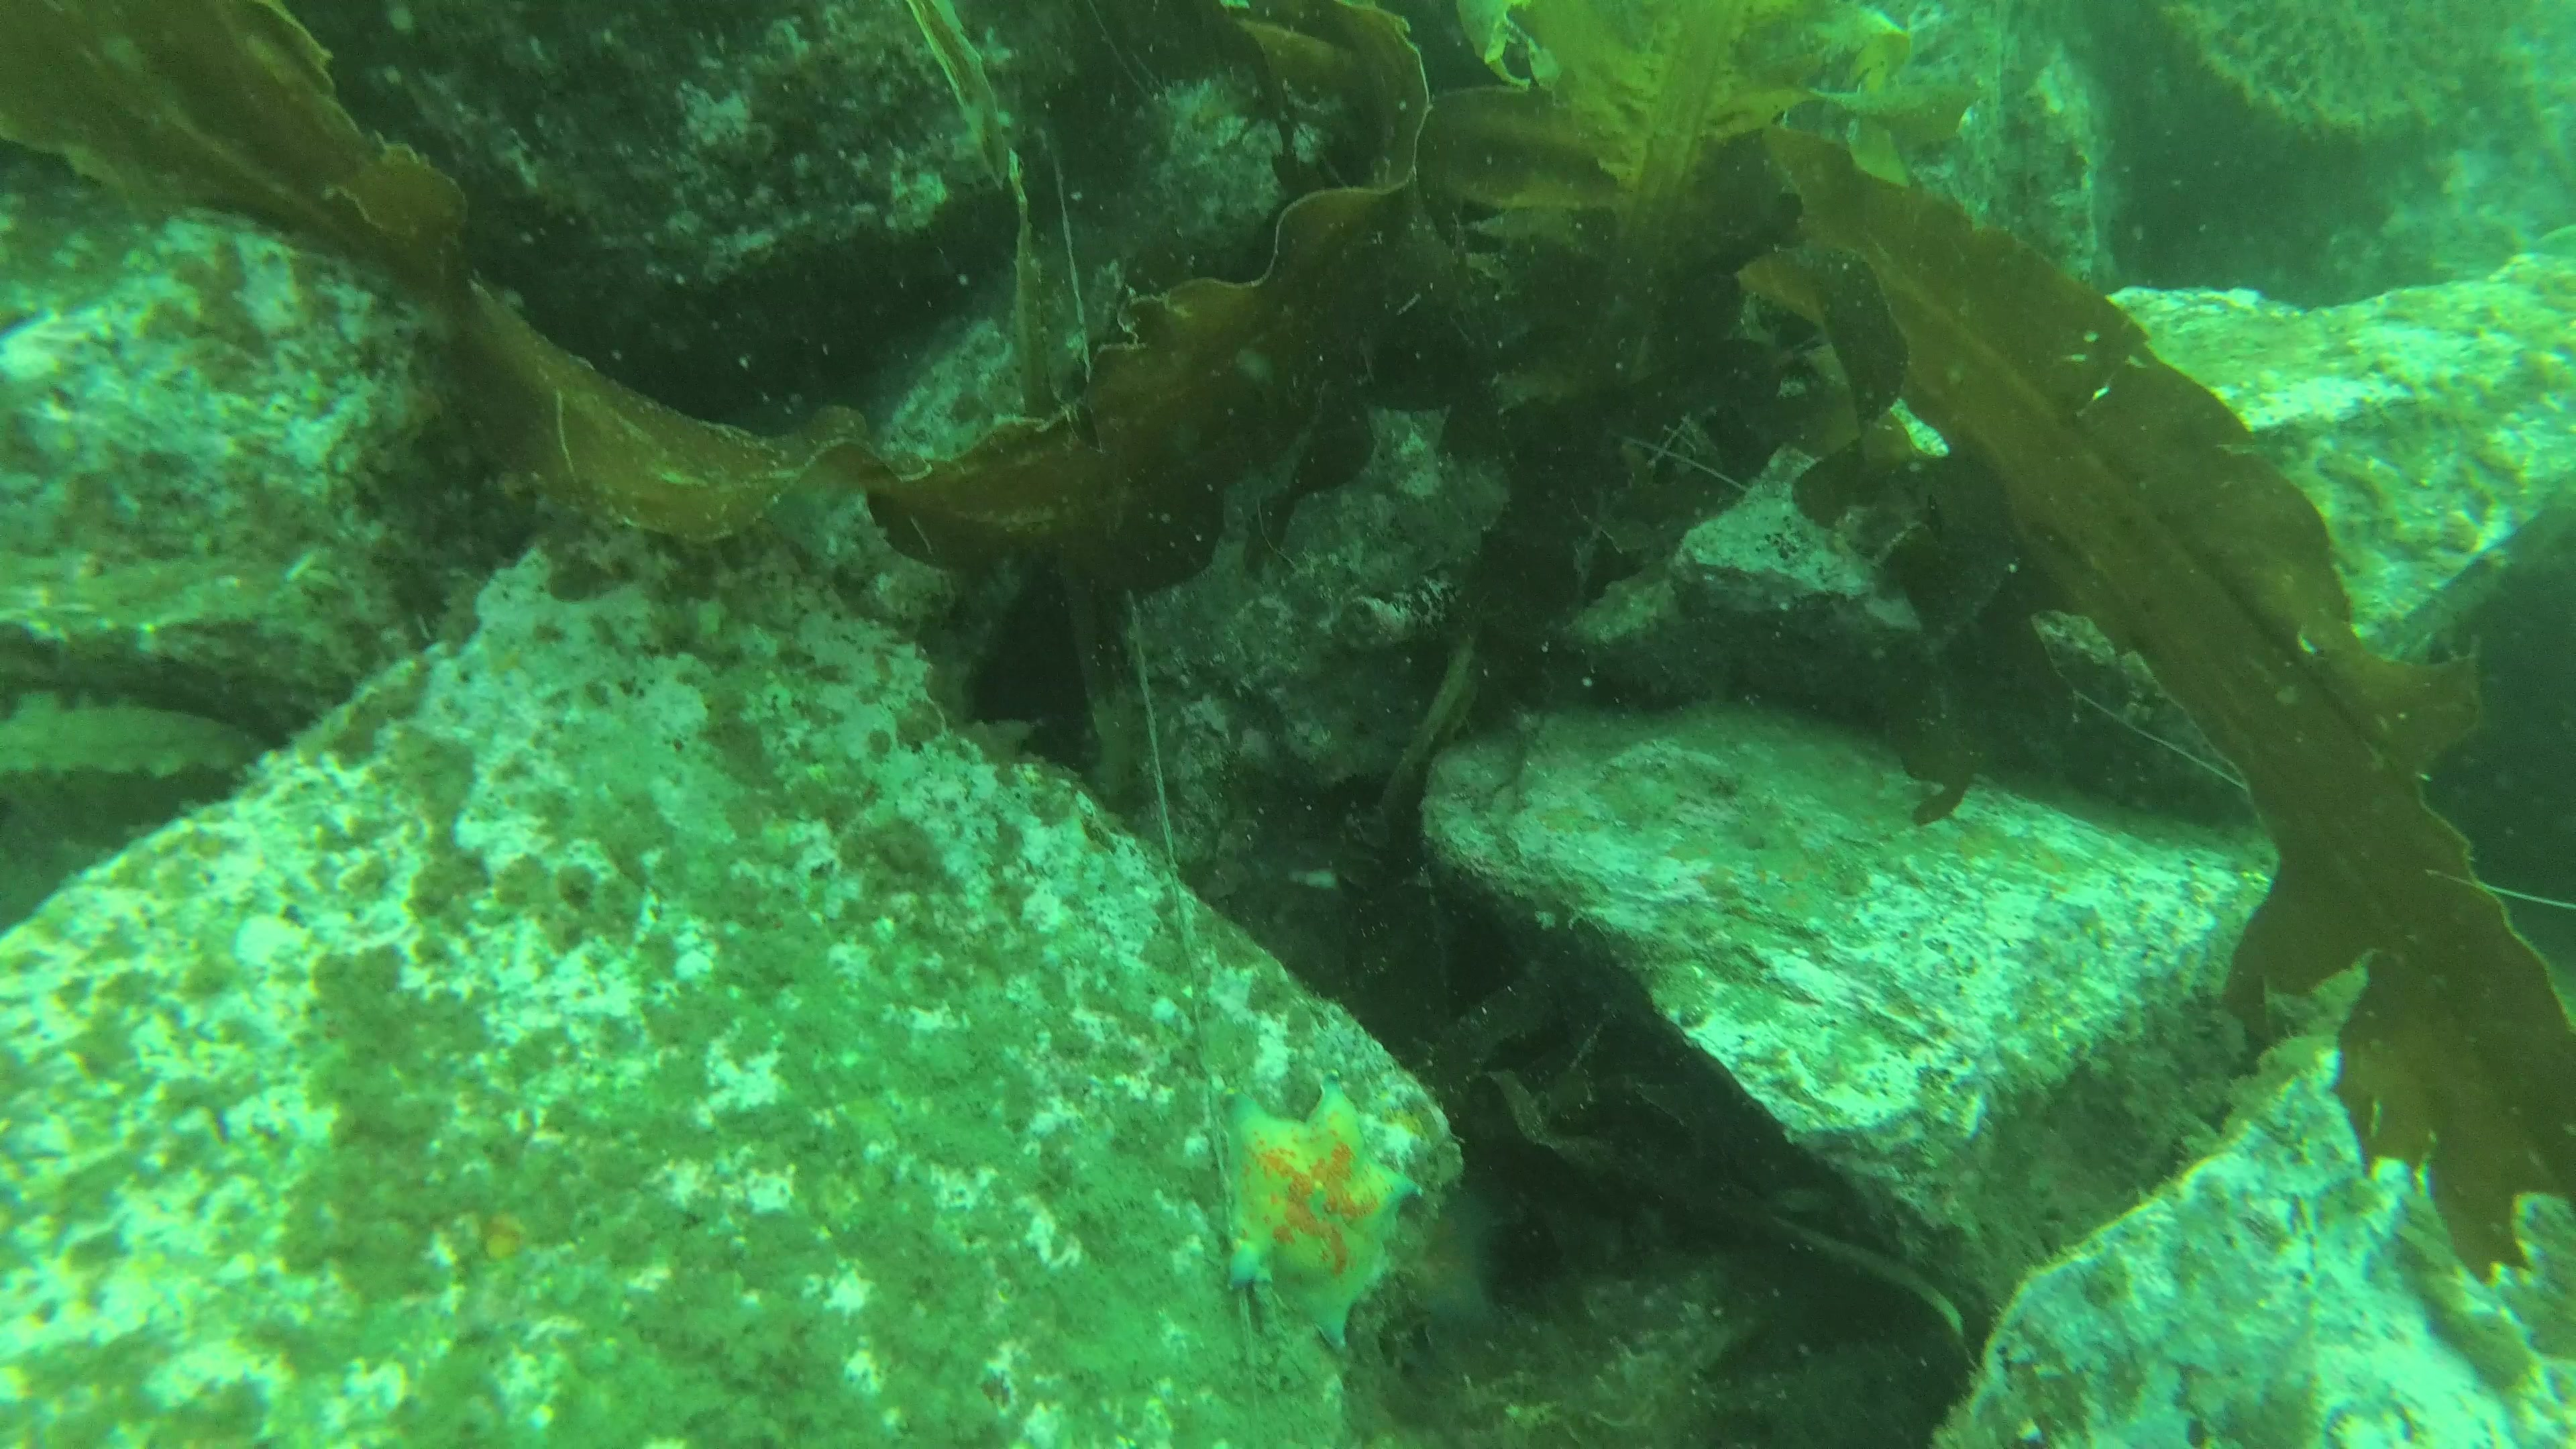starfish: (1219, 1067, 1424, 1352)
